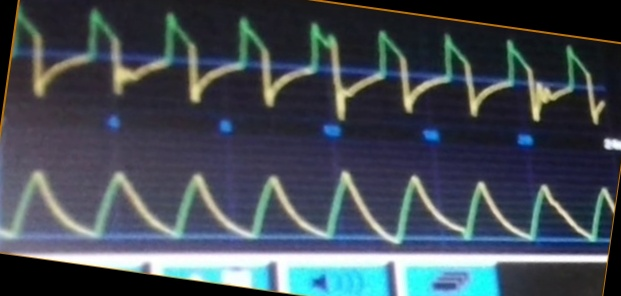Premature_cycling Flow: (20, 5, 607, 124)
Premature_cycling Volume: (3, 163, 606, 245)
